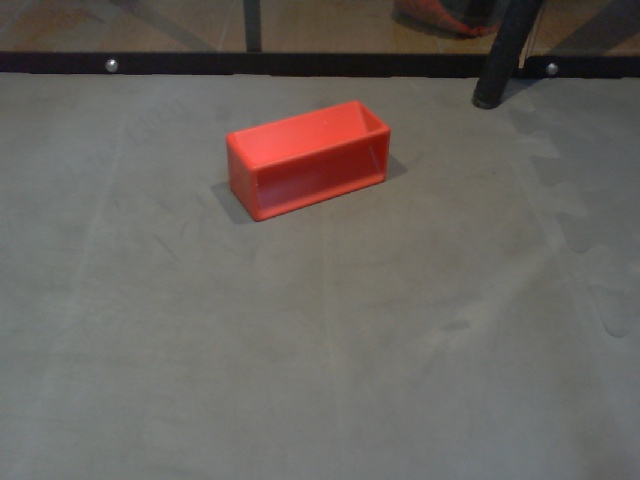RedSample: (224, 100, 393, 223)
